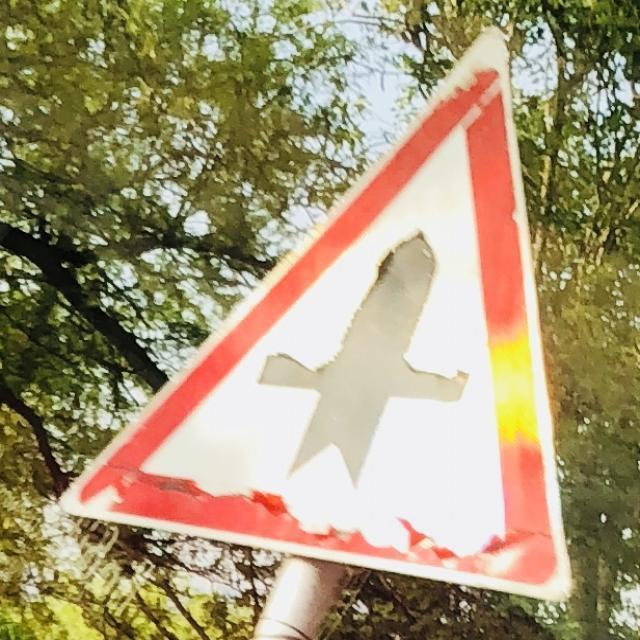cross road: (57, 21, 576, 607)
